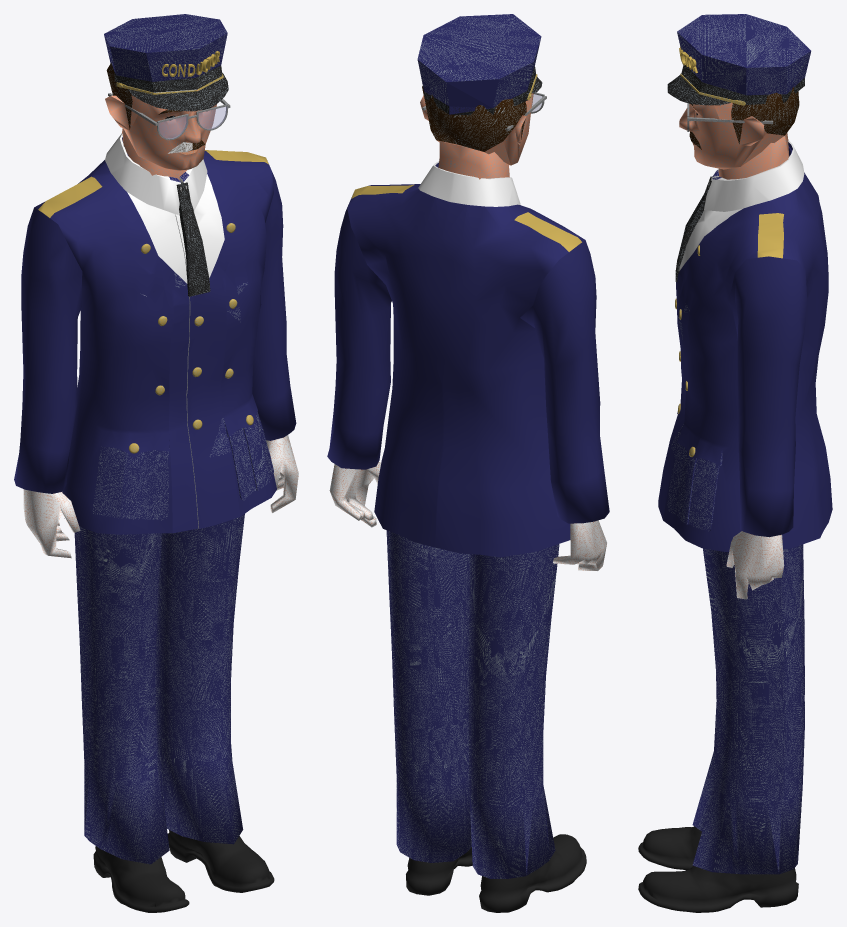
File: conductor.dae
3 renders of one model, left to right at view 1: azimuth 30°, elevation 25°; view 2: azimuth 150°, elevation 25°; view 3: azimuth 270°, elevation 25°, orthographic.
Visible parts, largest first — view 1: group_10 (×8), group_4, group_1, group_12, SketchUp (×4), group_11, Component_37, group_2, group_5, group_7, group_6, Component_13; view 2: group_10 (×3), group_4, group_1, group_12, group_11, SketchUp (×2), Component_37 (×2), group_5, group_6, Component_13, group_7, group_2; view 3: group_10 (×6), group_1, group_11, SketchUp (×3), Component_37 (×2), group_2, group_6, group_5, Component_13, group_4.
Part boxes in pixels (x1,y1,x2,y2): group_10 (×8): (34,133,276,534); group_4: (74,526,169,864); group_1: (156,514,244,844); group_12: (14,207,82,493); SketchUp (×4): (104,14,230,140); group_11: (252,167,296,440); Component_37: (105,89,216,170); group_2: (167,830,274,892); group_5: (93,846,189,912); group_7: (23,489,80,558); group_6: (266,435,298,512); Component_13: (122,128,187,179); group_10 (×3): (347,161,584,557); group_4: (468,544,559,878); group_1: (386,530,471,862); group_12: (520,240,609,523); group_11: (327,197,391,469); SketchUp (×2): (417,14,541,107); Component_37 (×2): (420,86,533,165); group_5: (479,834,586,912); group_6: (329,462,381,527); Component_13: (438,141,509,179); group_7: (553,520,606,570); group_2: (406,847,472,895); group_10 (×6): (658,140,832,551); group_1: (692,544,804,874); group_11: (730,256,807,537); SketchUp (×3): (667,14,811,105); Component_37 (×2): (679,87,799,169); group_2: (638,866,798,912); group_6: (726,531,784,599); group_5: (638,826,798,870); Component_13: (718,133,789,179); group_4: (692,544,804,831).
Size of the model in its own units: 25.81 by 15.74 by 75.98.
